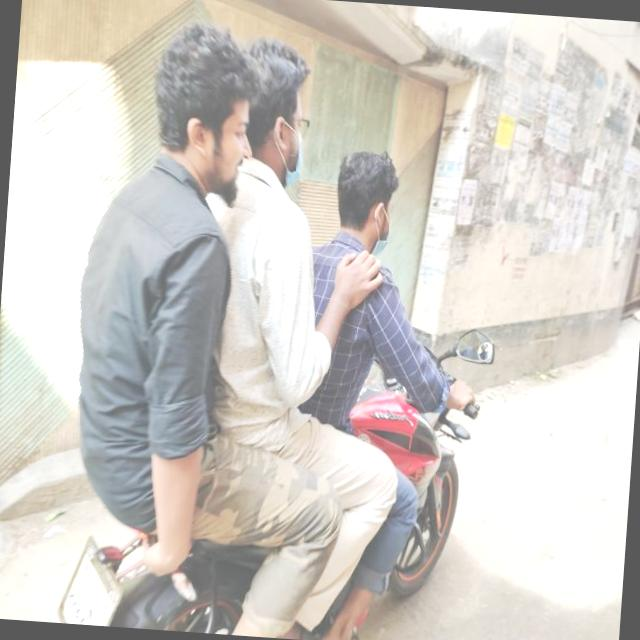motorcycle: (48, 290, 505, 640)
person: (42, 13, 263, 572), (165, 24, 348, 508), (266, 141, 416, 521)
rider_region: (42, 19, 527, 640)
